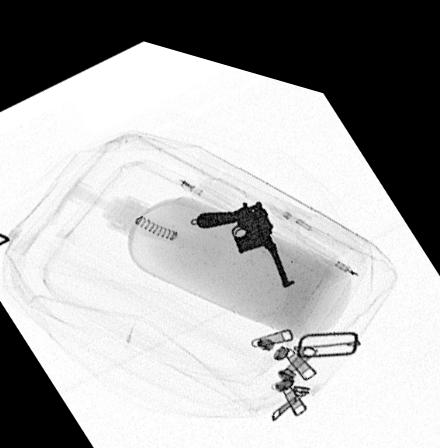Gun: (195, 185, 297, 271)
